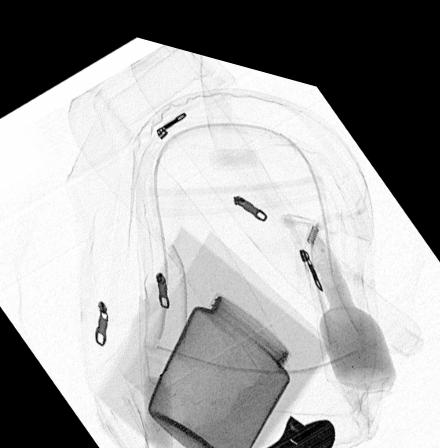Wrench: (239, 397, 338, 448)
